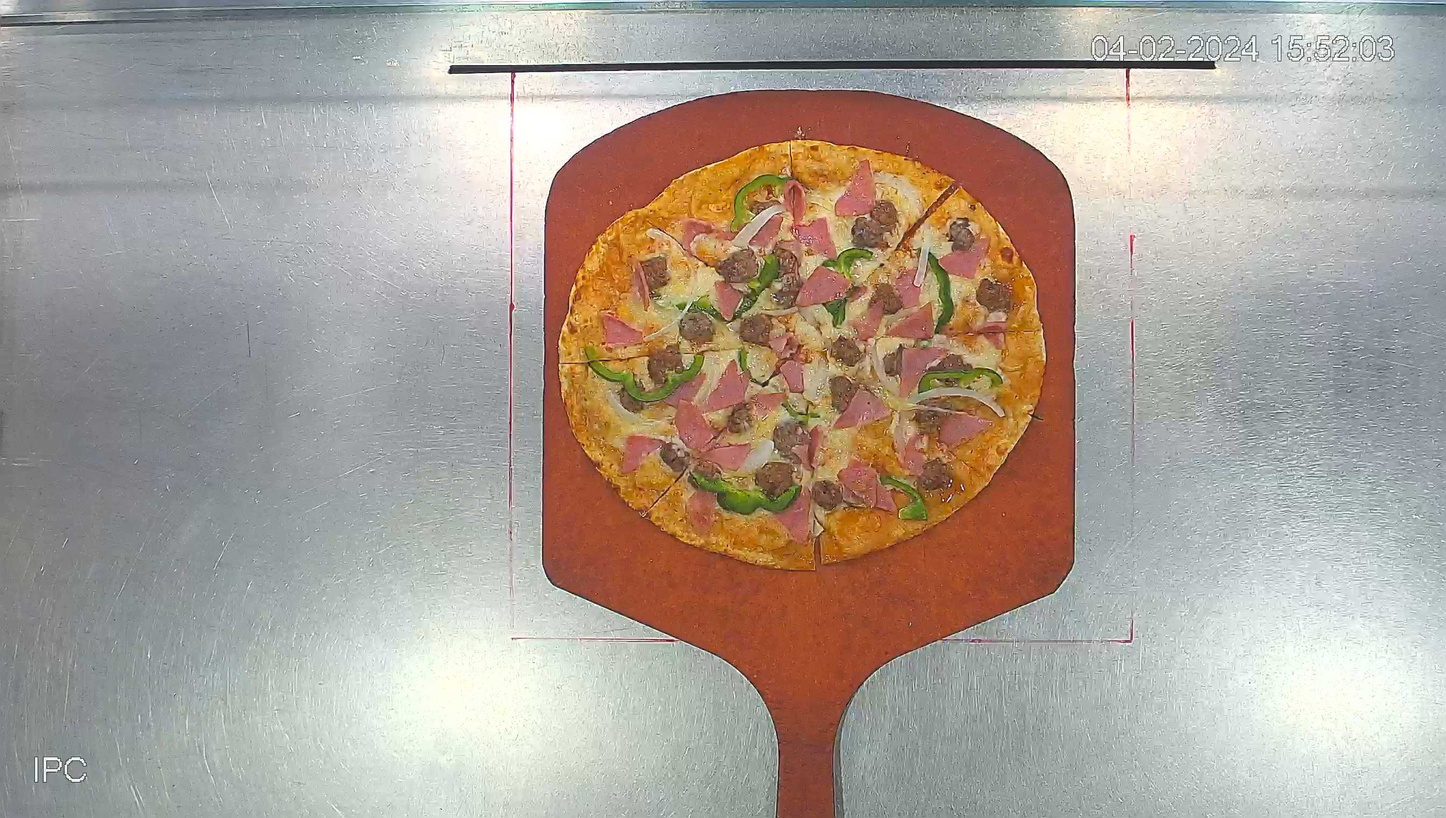hawaiian: (558, 140, 1047, 571)
